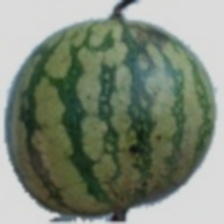watermelon: (23, 10, 177, 171)
